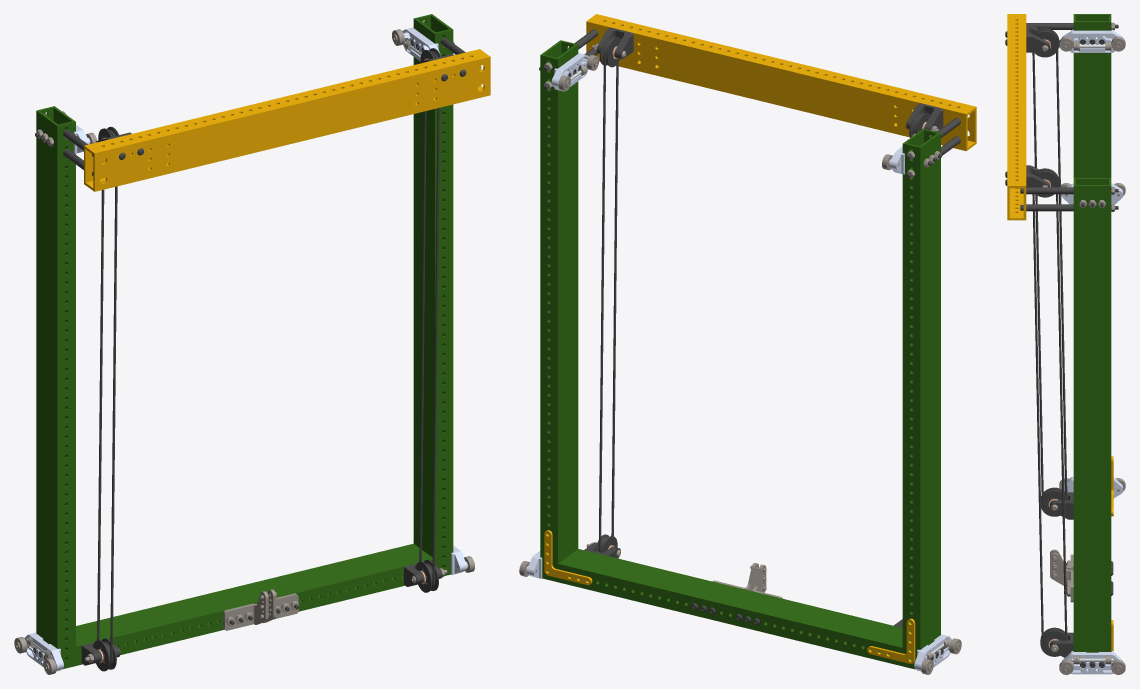
3 renders of one model, left to right at view 1: azimuth 30°, elevation 25°; view 2: azimuth 150°, elevation 25°; view 3: azimuth 270°, elevation 25°, orthographic. The views are drawn at different scales.
Parts seen in each view (by area): view 1: (3) 1st V tube (×2), (3) 1st Upper H tube, (3) 1st H tube, (3) String 2 (×2), WCP-0583-025 Rev1; view 2: (3) 1st V tube (×2), (3) 1st Upper H tube, (3) 1st H tube, (3) String 2, Elevator Gusset (×2); view 3: (3) 1st V tube (×2), (3) String 2 (×2), (3) 1st Upper H tube, WCP-0897-001 Rev1 (×4), Cascade Pulley Block (WCP-0298) (×4), WCP-0096 (×4), Aluminum Spacers (.196" ID x 3/8" OD x 2" WD) (5-Pack) (WCP- (×3), WCP-0583-026 Rev1.
Boxes of the visible parts, x1,y1,x2,y2 form: (3) 1st V tube (×2): (36,14,453,669); (3) 1st Upper H tube: (84,49,490,191); (3) 1st H tube: (76,543,432,665); (3) String 2 (×2): (97,50,439,668); WCP-0583-025 Rev1: (223,591,268,630); (3) 1st V tube (×2): (540,40,940,669); (3) 1st Upper H tube: (586,14,976,151); (3) 1st H tube: (558,549,902,666); (3) String 2: (598,38,618,552); Elevator Gusset (×2): (544,530,915,663); (3) 1st V tube (×2): (1073,14,1111,657); (3) String 2 (×2): (1032,50,1067,637); (3) 1st Upper H tube: (1007,14,1026,220); WCP-0897-001 Rev1 (×4): (1061,29,1123,674); Cascade Pulley Block (WCP-0298) (×4): (1026,25,1073,657); WCP-0096 (×4): (1034,31,1068,656); Aluminum Spacers (.196" ID x 3/8" OD x 2" WD) (5-Pack) (WCP- (×3): (1035,23,1073,211); WCP-0583-026 Rev1: (1050,552,1073,602).
Size of the model in its own units: 0.5877 by 0.7176 by 0.1613.
